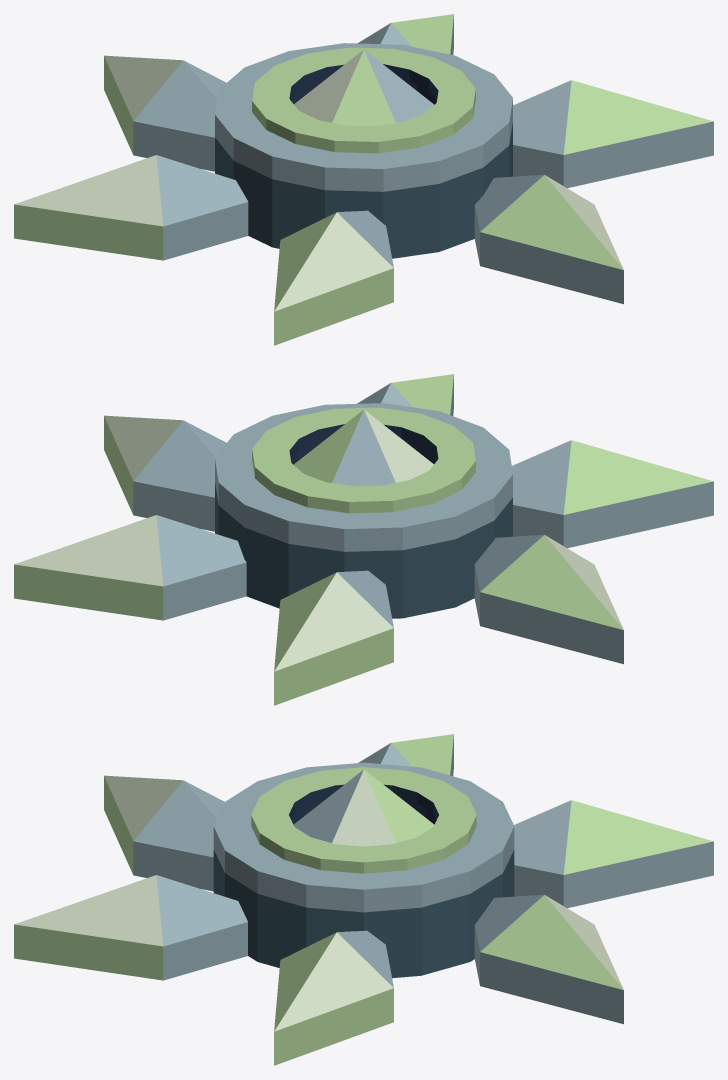
Rendered from crystal-blade.glb.
3 renders of one model, top to bottom at view 1: azimuth 30°, elevation 25°; view 2: azimuth 150°, elevation 25°; view 3: azimuth 270°, elevation 25°, orthographic.
Visible parts, largest first — view 1: 晶刃; view 2: 晶刃; view 3: 晶刃.
Part boxes in pixels (box(x1,y1,x2,y2)): 晶刃: box(14, 14, 713, 345); 晶刃: box(14, 374, 713, 705); 晶刃: box(14, 734, 713, 1065).
Bounding box in the file's own units: 0.562 × 0.14 × 0.5584.
